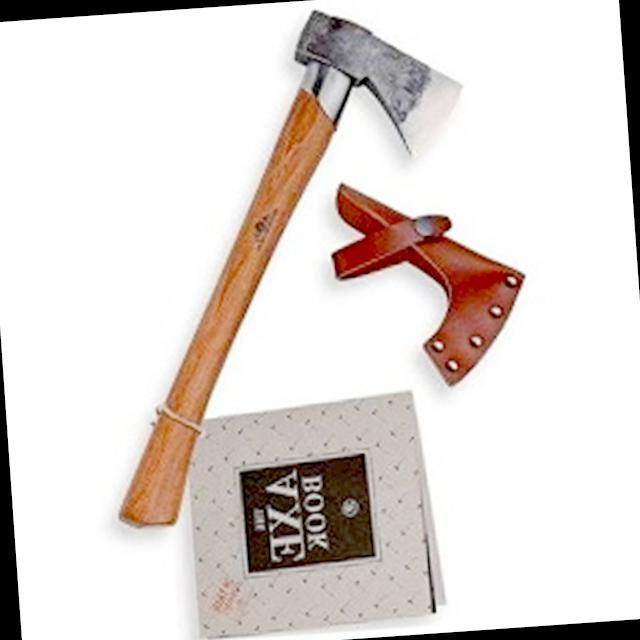ax: (73, 0, 496, 544)
